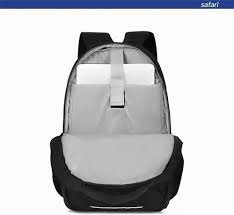backpack: (49, 30, 184, 212)
